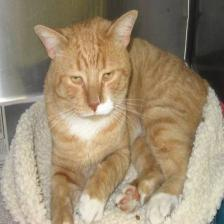cat: (34, 11, 142, 120)
